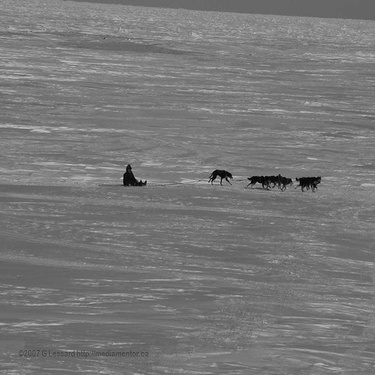dog: (253, 170, 283, 197), (292, 169, 325, 190), (272, 165, 293, 197), (237, 169, 269, 189), (284, 176, 317, 194), (206, 166, 234, 186)
